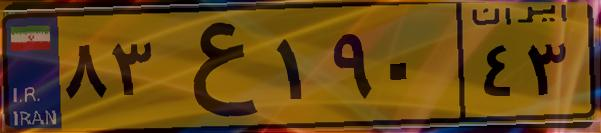0: (385, 28, 445, 110)
1: (270, 28, 330, 110)
3: (525, 38, 570, 115), (110, 28, 158, 98)
4: (475, 38, 525, 113)
8: (57, 26, 110, 100)
9: (330, 28, 385, 110)
ع: (158, 12, 270, 120)
